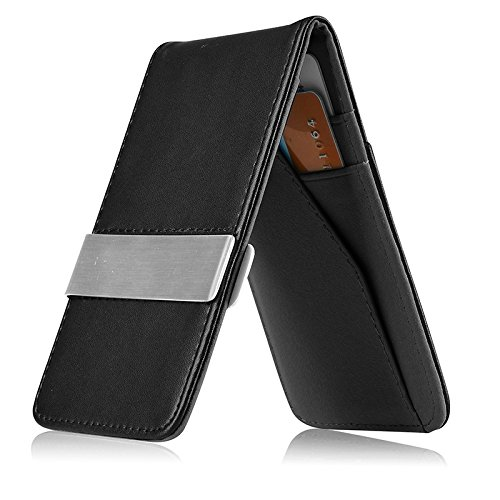monedero: (31, 13, 452, 445)
